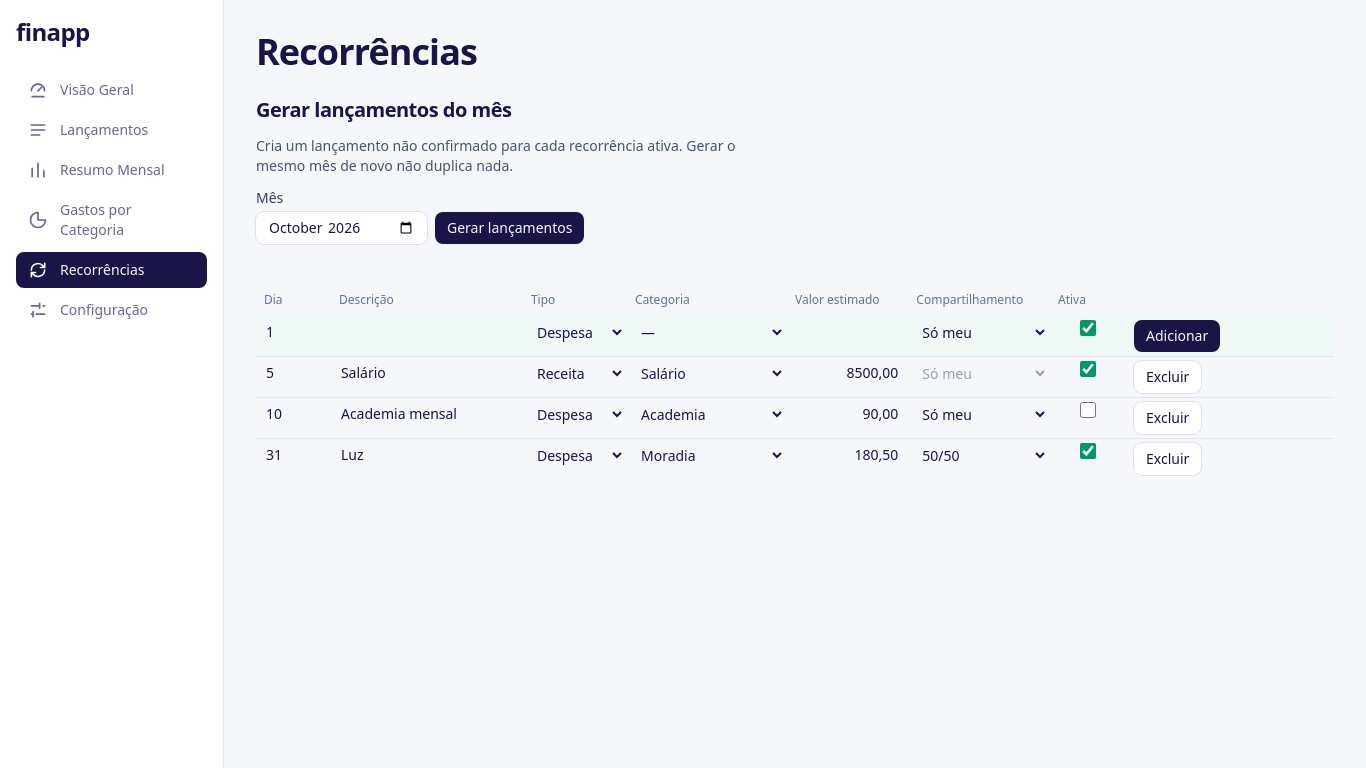
Test: Editing in place › saves a text change on blur, sending the whole row
The image size is (1366, 768).
Check: the heading "Recorrências" is shown, box [256,32,477,72]
Replace the text in the 4th field named "Descrição" with "Energia": x=427, y=455 [333,441,521,469]
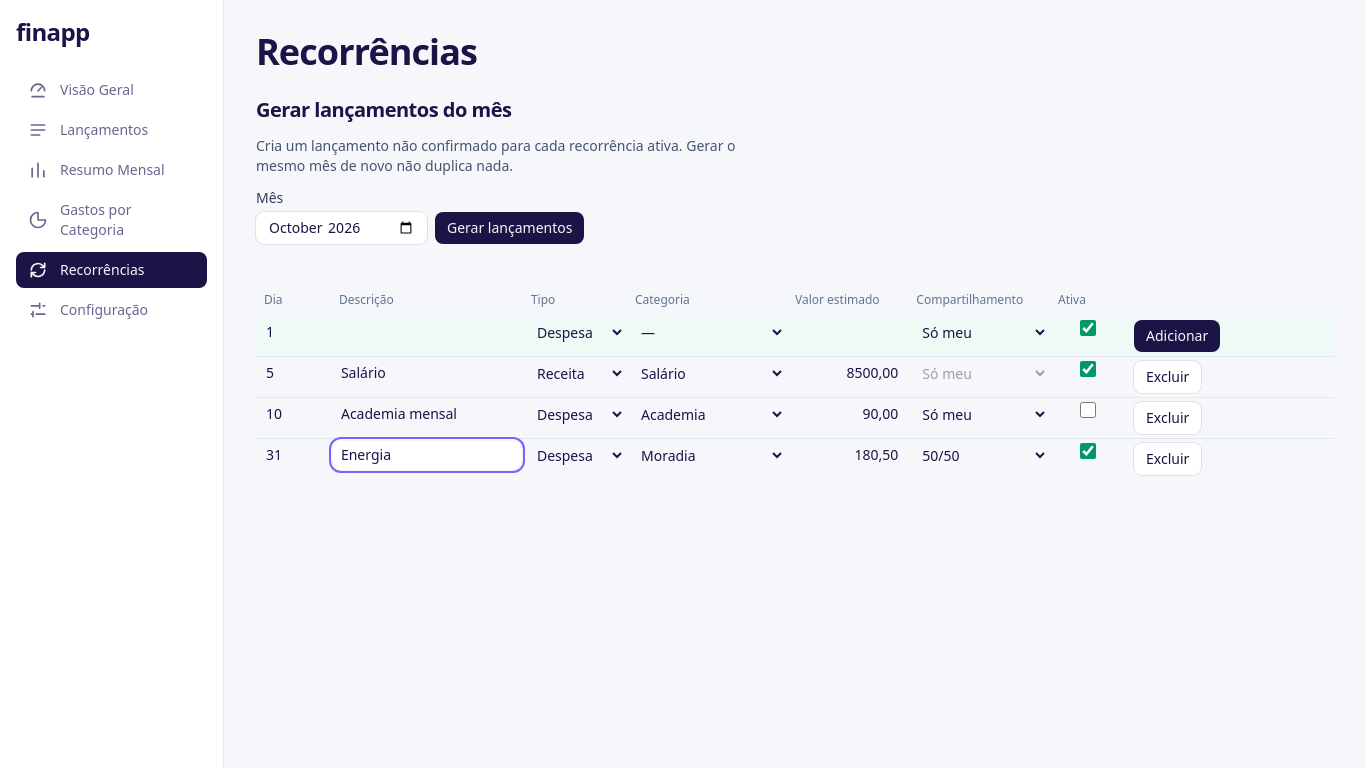
Press Tab
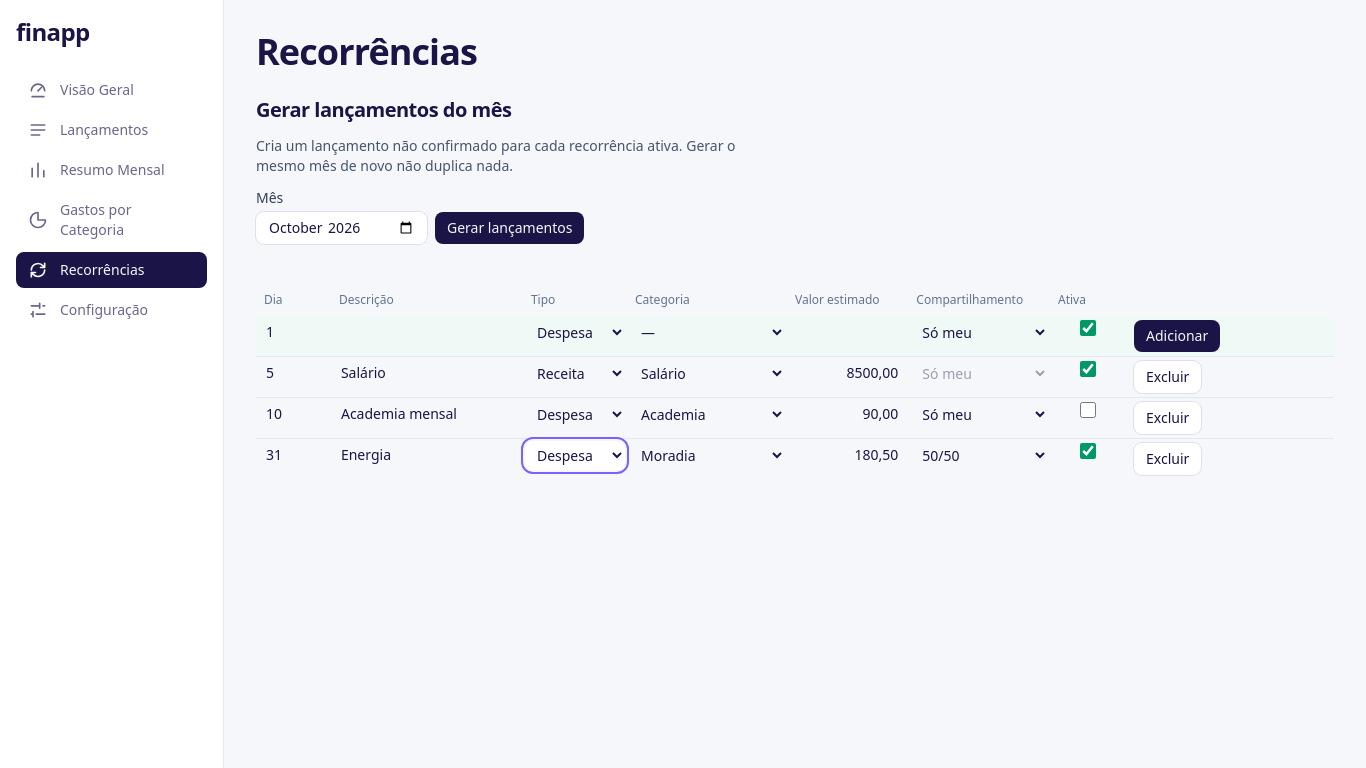
Check: the row named "Energia" is shown, box [256,438,1334,479]
